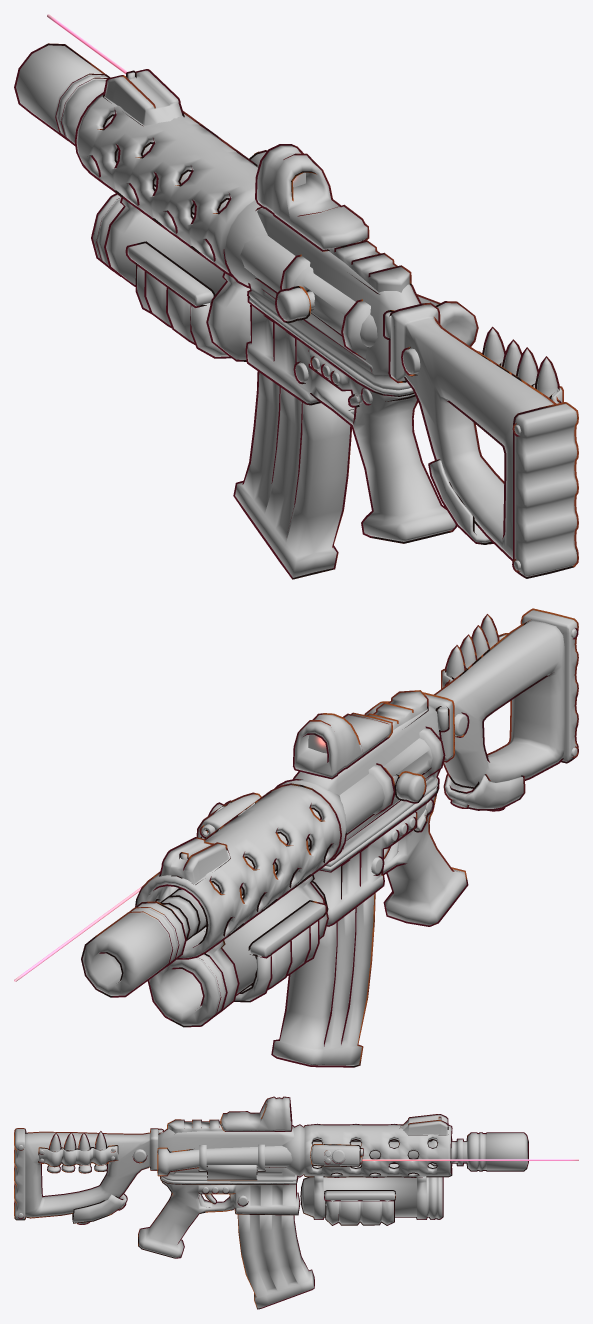
The picture shows the model from 3 angles, top to bottom: view 1: azimuth 30°, elevation 25°; view 2: azimuth 150°, elevation 25°; view 3: azimuth 270°, elevation 25°; orthographic projection. The views are drawn at different scales.
Visible parts, largest first — view 1: guN_0, ChellShading_1; view 2: guN_0, ChellShading_1; view 3: guN_0, ChellShading_1.
Part boxes in pixels (x1,y1,x2,y2): guN_0: [16, 14, 576, 577]; ChellShading_1: [14, 43, 578, 579]; guN_0: [14, 610, 577, 1065]; ChellShading_1: [81, 608, 578, 1067]; guN_0: [15, 1097, 578, 1308]; ChellShading_1: [14, 1096, 528, 1309].
Size of what is drawn, in the model's own units: 2.34 by 6.95 by 17.25.
